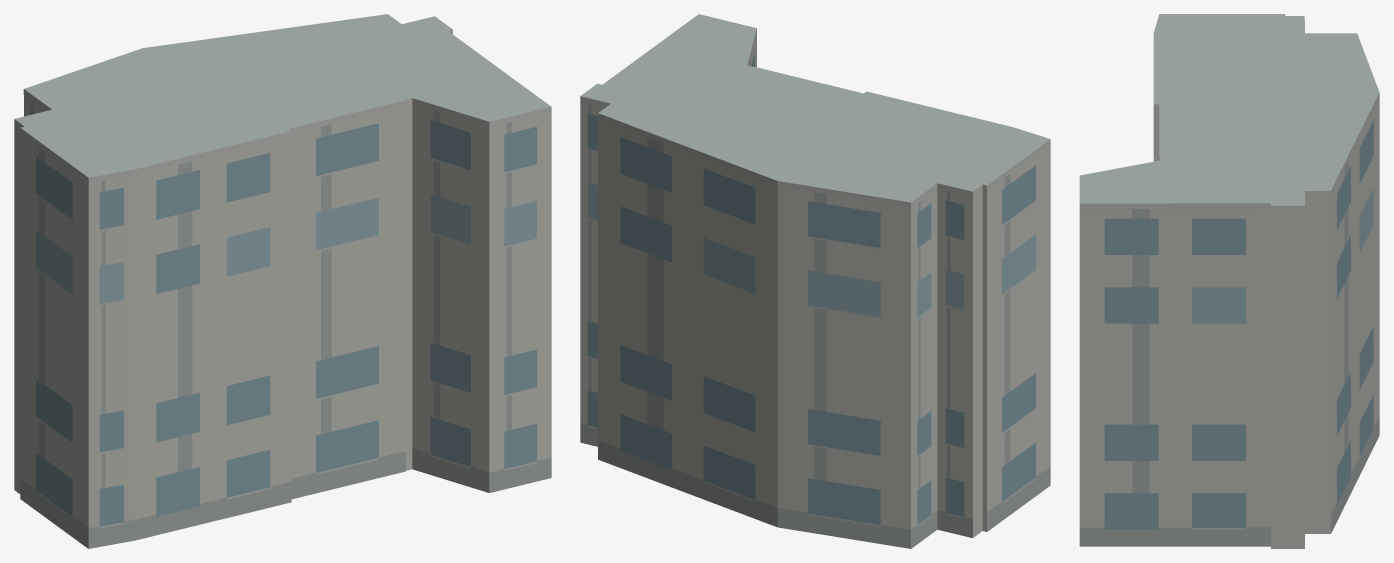
The model's file is survey-upis-32718390.glb.
3 renders of one model, left to right at view 1: azimuth 30°, elevation 25°; view 2: azimuth 150°, elevation 25°; view 3: azimuth 270°, elevation 25°, orthographic. The views are drawn at different scales.
Visible parts, largest first — view 1: survey-upis-32718390.tmp; view 2: survey-upis-32718390.tmp; view 3: survey-upis-32718390.tmp.
Boxes of the visible parts, <box> form: survey-upis-32718390.tmp: <box>14,14,551,548</box>; survey-upis-32718390.tmp: <box>580,14,1050,548</box>; survey-upis-32718390.tmp: <box>1079,14,1379,548</box>.
Bounding box in the file's own units: 18.71 × 15.6 × 12.37.
